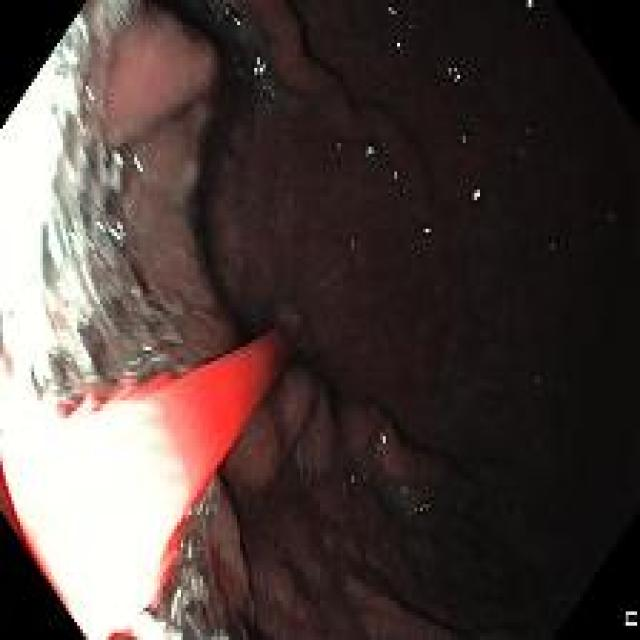blur: (1, 1, 204, 394)
bubbles: (232, 33, 272, 83), (212, 1, 248, 38), (259, 81, 281, 104), (412, 496, 432, 520)
color misalignment: (626, 612, 638, 626)
contrast: (505, 2, 637, 638)
instrument: (1, 327, 296, 637)
saturation: (1, 399, 190, 638), (0, 38, 82, 573)
specularity: (75, 13, 89, 49), (170, 585, 182, 621), (108, 221, 126, 241), (252, 55, 267, 77), (83, 84, 97, 102), (448, 65, 461, 82), (131, 153, 142, 172), (378, 428, 388, 447), (112, 149, 123, 166), (469, 189, 482, 202), (186, 534, 192, 562), (139, 342, 151, 354), (95, 221, 106, 233), (364, 145, 375, 157), (387, 5, 397, 18), (421, 224, 432, 234), (394, 39, 402, 50), (233, 17, 241, 26), (224, 6, 230, 17), (526, 0, 533, 9)
